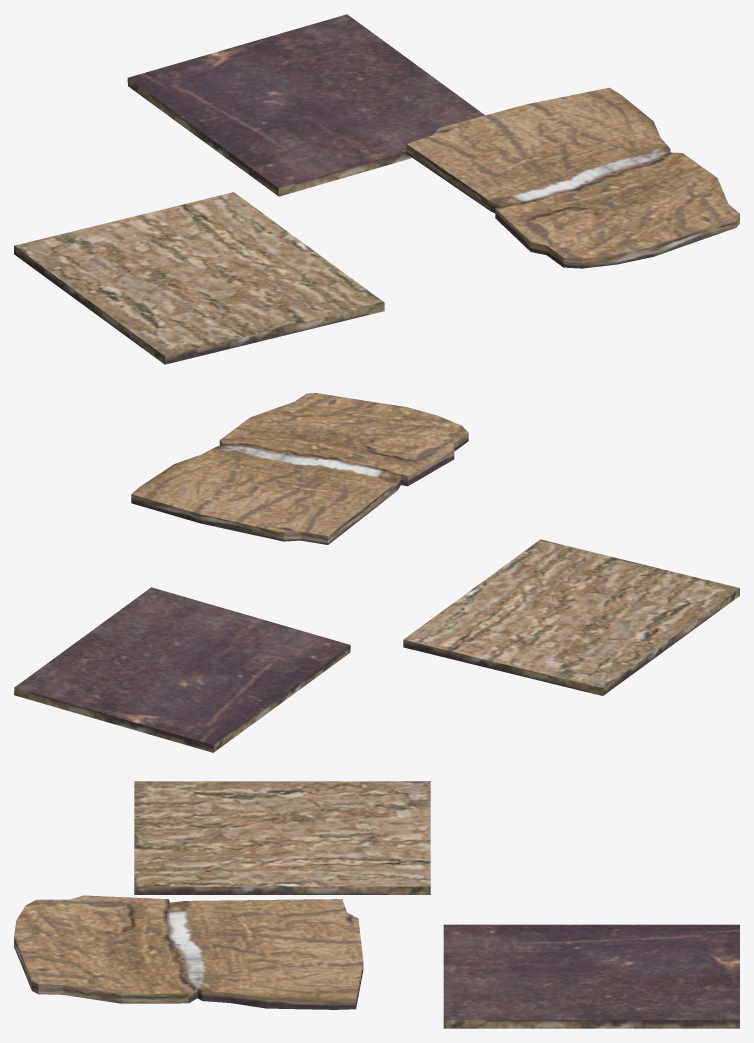
The model's file is duzhong.FBX.
The picture shows the model from 3 angles, top to bottom: view 1: azimuth 30°, elevation 25°; view 2: azimuth 150°, elevation 25°; view 3: azimuth 270°, elevation 25°; orthographic projection. The views are drawn at different scales.
Parts seen in each view (by area): view 1: Line001, Box002, Box003; view 2: Box003, Line001, Box002; view 3: Line001, Box002, Box003.
Boxes of the visible parts, x1,y1,x2,y2 form: Line001: (406,87,739,268); Box002: (14,192,384,364); Box003: (127,14,484,196); Box003: (14,587,350,752); Line001: (131,393,468,544); Box002: (403,539,739,695); Line001: (14,895,363,1009); Box002: (134,781,430,894); Box003: (443,924,739,1028).
Bounding box in the file's own units: 45.36 × 5.58 × 51.98.
1 material, 1 textured.
